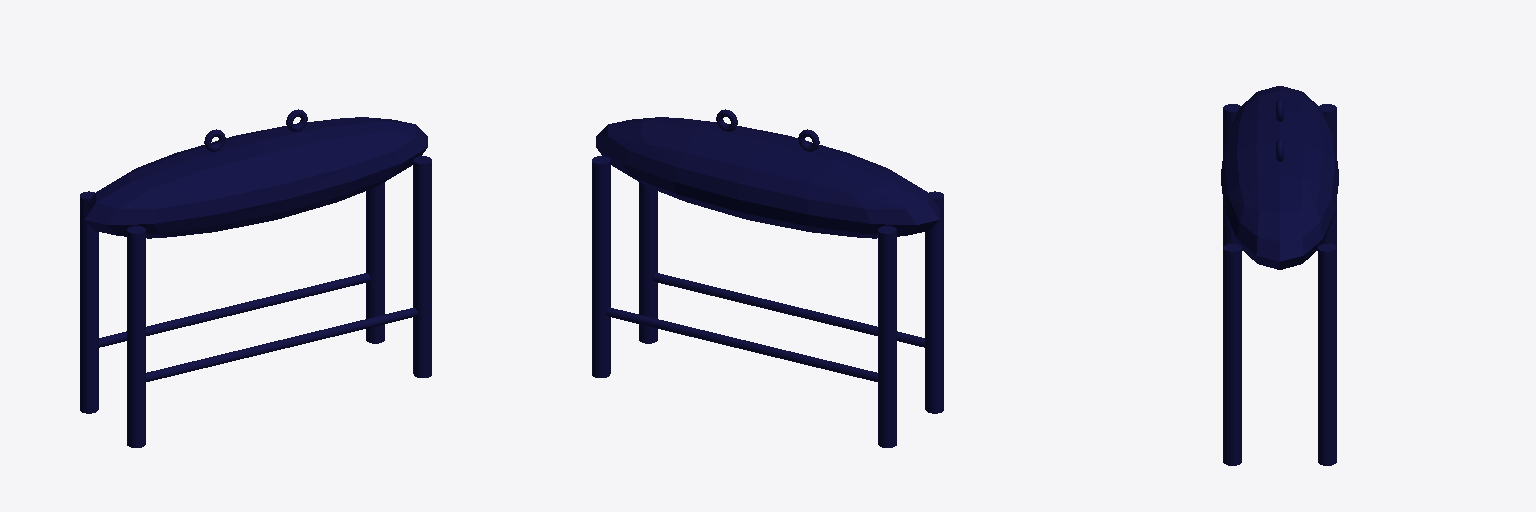
Rendered from PommelHorse2.obj.
3 renders of one model, left to right at view 1: azimuth 30°, elevation 25°; view 2: azimuth 150°, elevation 25°; view 3: azimuth 270°, elevation 25°, orthographic.
Parts seen in each view (by area): view 1: PommelBody_Matte, MatteLeg_-0.7_-0.2, MatteLeg_0.7_-0.2, MatteLeg_-0.7_0.2, MatteLeg_0.7_0.2, MatteCrossbar_-0.2, MatteCrossbar_0.2; view 2: PommelBody_Matte, MatteLeg_-0.7_0.2, MatteLeg_0.7_0.2, MatteLeg_-0.7_-0.2, MatteLeg_0.7_-0.2, MatteCrossbar_0.2, MatteCrossbar_-0.2; view 3: PommelBody_Matte, MatteLeg_0.7_-0.2, MatteLeg_0.7_0.2, MatteLeg_-0.7_-0.2, MatteLeg_-0.7_0.2.
Boxes of the visible parts, box(x1,y1,x2,y2) form: PommelBody_Matte: box(84, 117, 427, 238); MatteLeg_-0.7_-0.2: box(127, 226, 145, 447); MatteLeg_0.7_-0.2: box(413, 156, 431, 377); MatteLeg_-0.7_0.2: box(80, 191, 98, 413); MatteLeg_0.7_0.2: box(366, 182, 384, 343); MatteCrossbar_-0.2: box(146, 308, 417, 381); MatteCrossbar_0.2: box(99, 273, 370, 347); PommelBody_Matte: box(596, 117, 939, 238); MatteLeg_-0.7_0.2: box(878, 226, 896, 447); MatteLeg_0.7_0.2: box(592, 156, 610, 377); MatteLeg_-0.7_-0.2: box(925, 191, 943, 413); MatteLeg_0.7_-0.2: box(639, 182, 657, 343); MatteCrossbar_0.2: box(606, 308, 877, 381); MatteCrossbar_-0.2: box(653, 273, 924, 347); PommelBody_Matte: box(1221, 86, 1338, 269); MatteLeg_0.7_-0.2: box(1223, 244, 1241, 465); MatteLeg_0.7_0.2: box(1318, 244, 1336, 465); MatteLeg_-0.7_-0.2: box(1223, 104, 1240, 246); MatteLeg_-0.7_0.2: box(1319, 104, 1336, 246).
Size of the model in its own units: 1.68 by 1.27 by 0.5037.